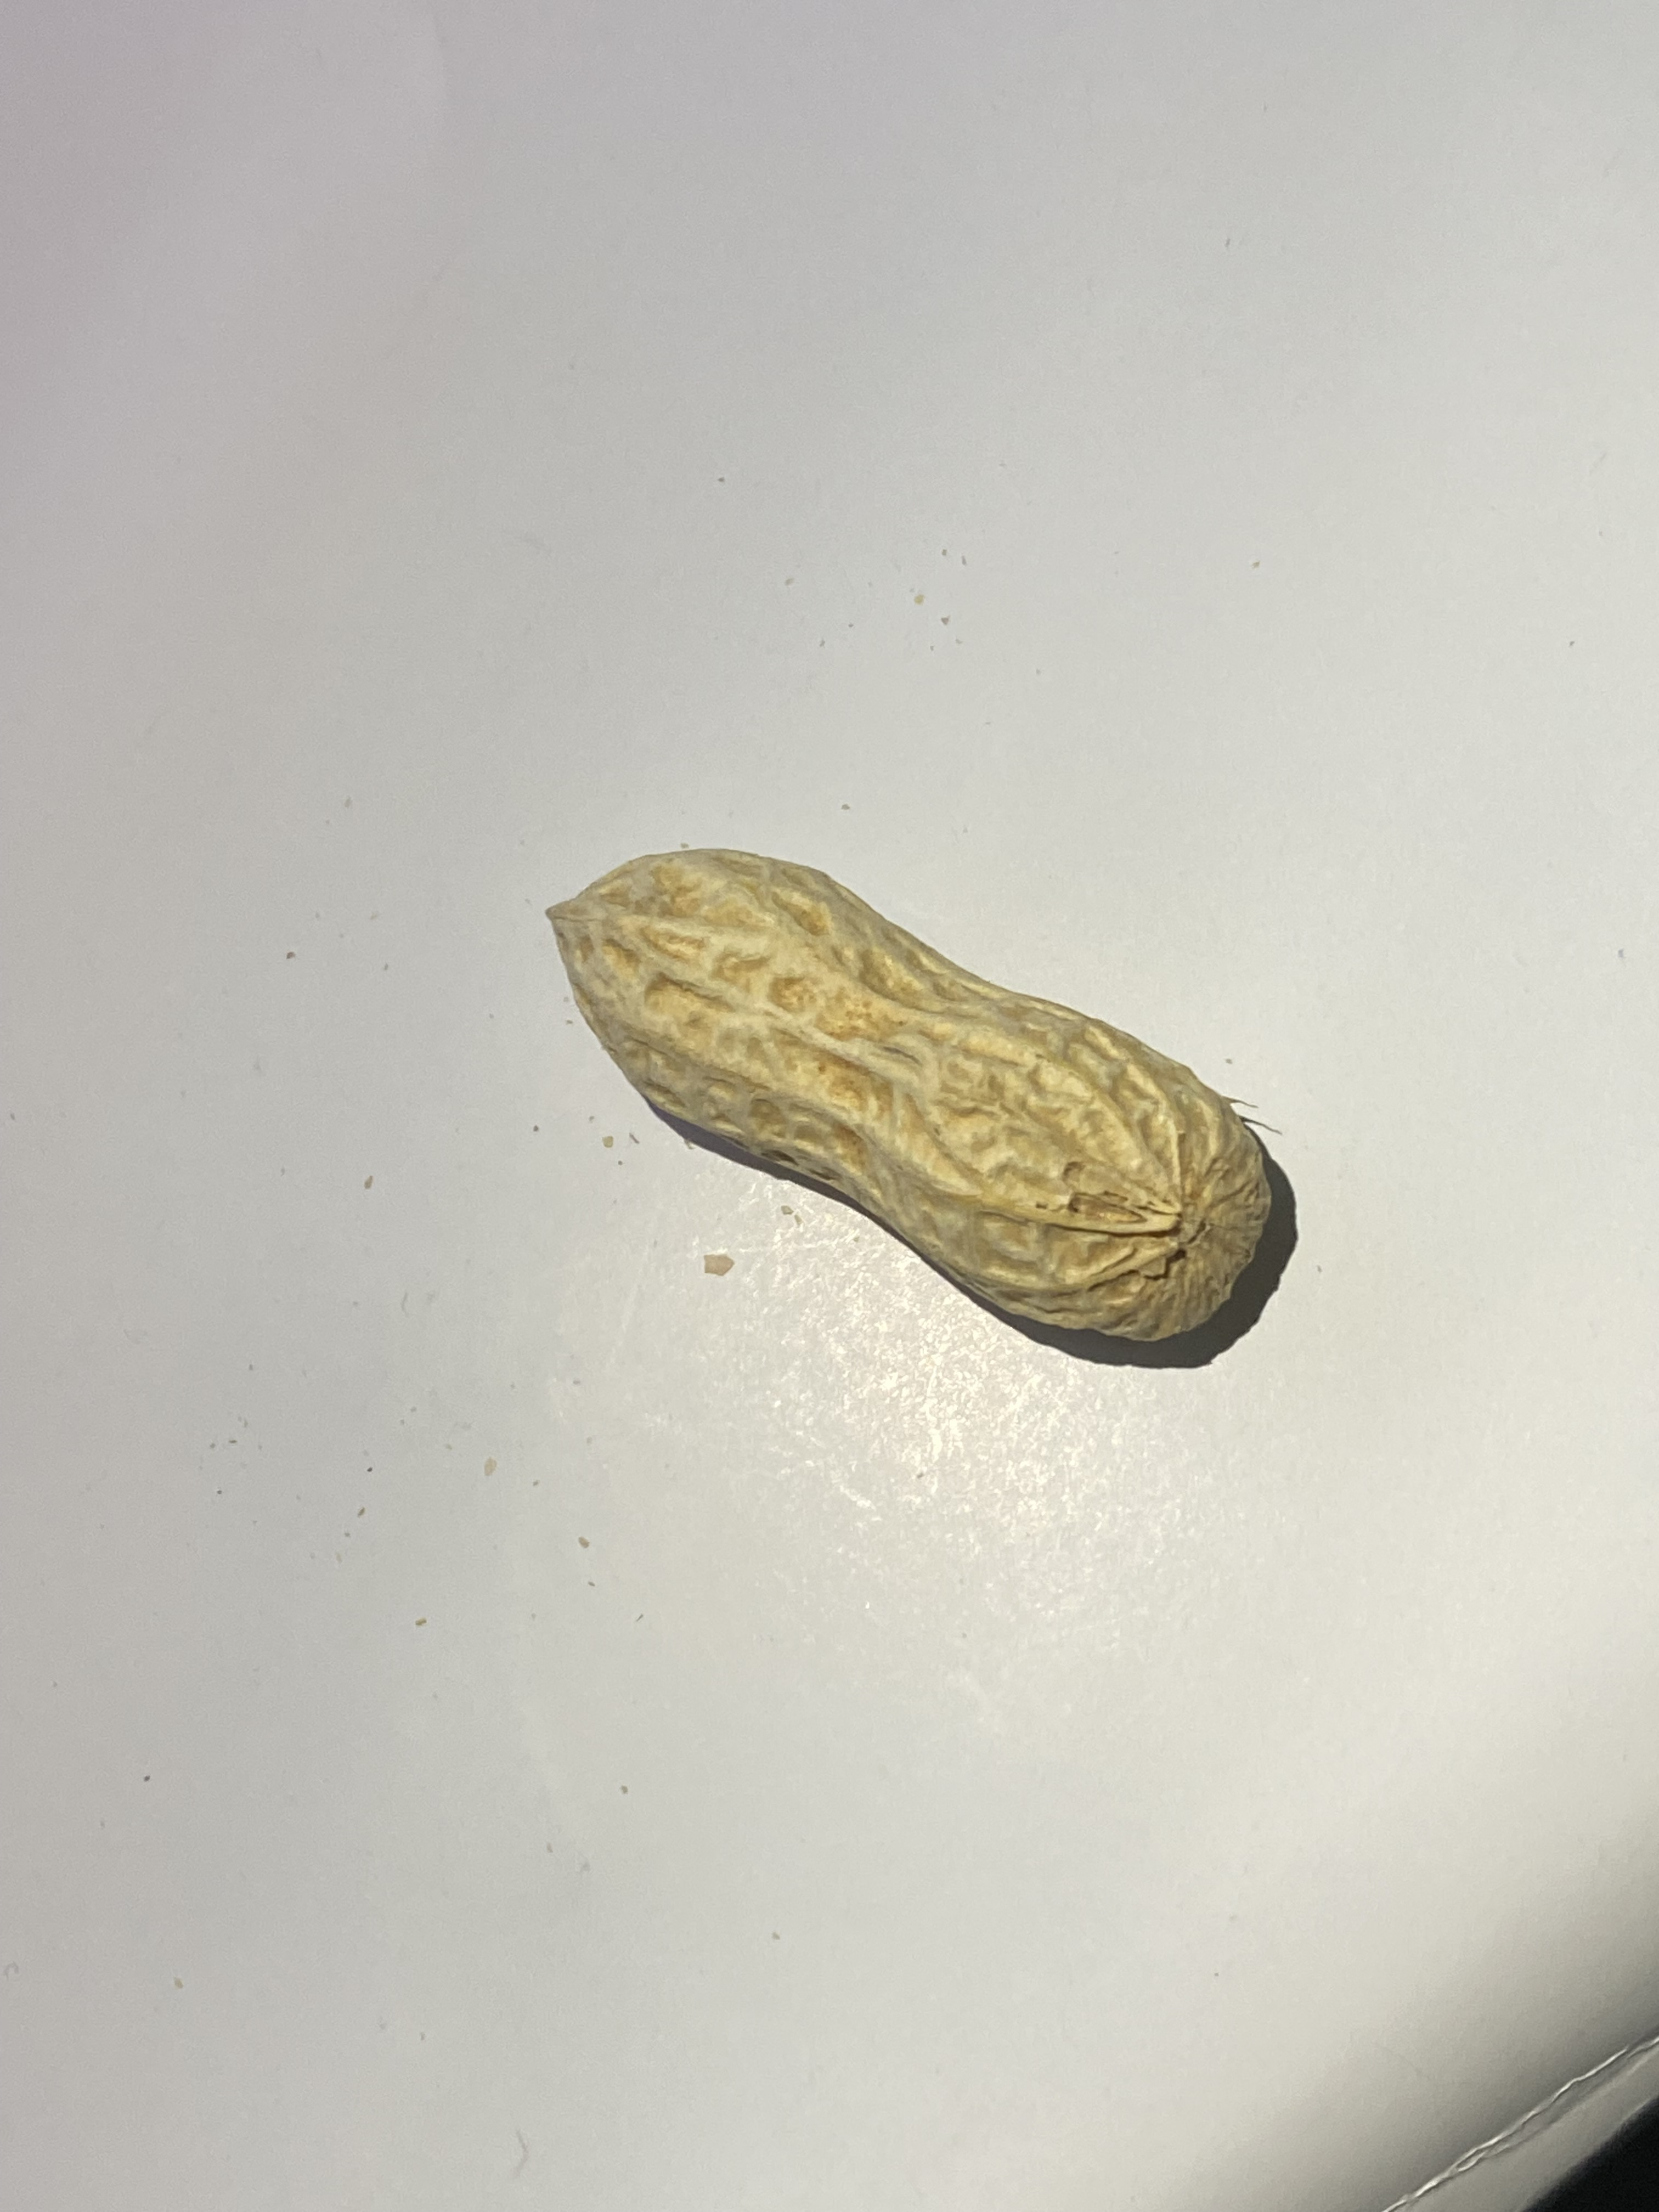kacang2: (523, 845, 1290, 1350)
